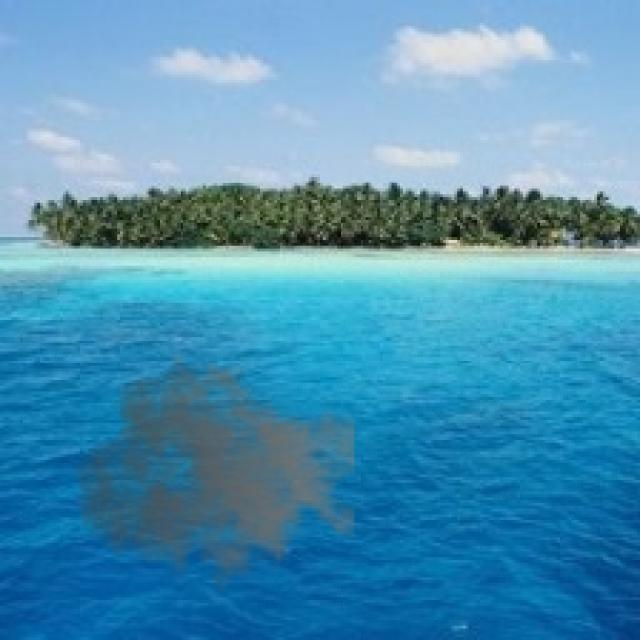Smoke: (74, 351, 354, 606)
